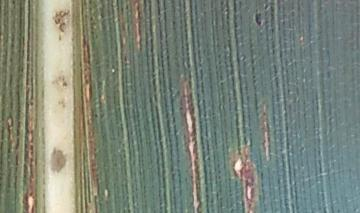tarspot: (253, 11, 265, 29)
